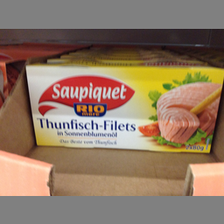fish: (26, 61, 224, 154)
